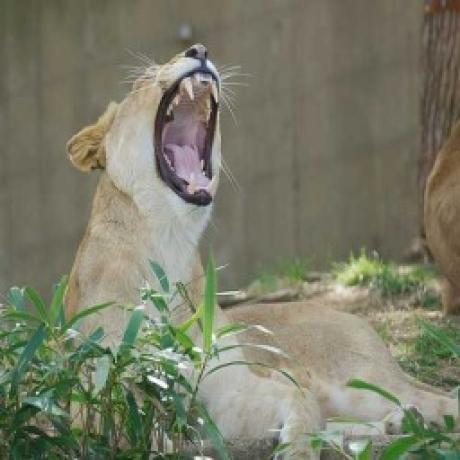Lion: (63, 41, 459, 432)
